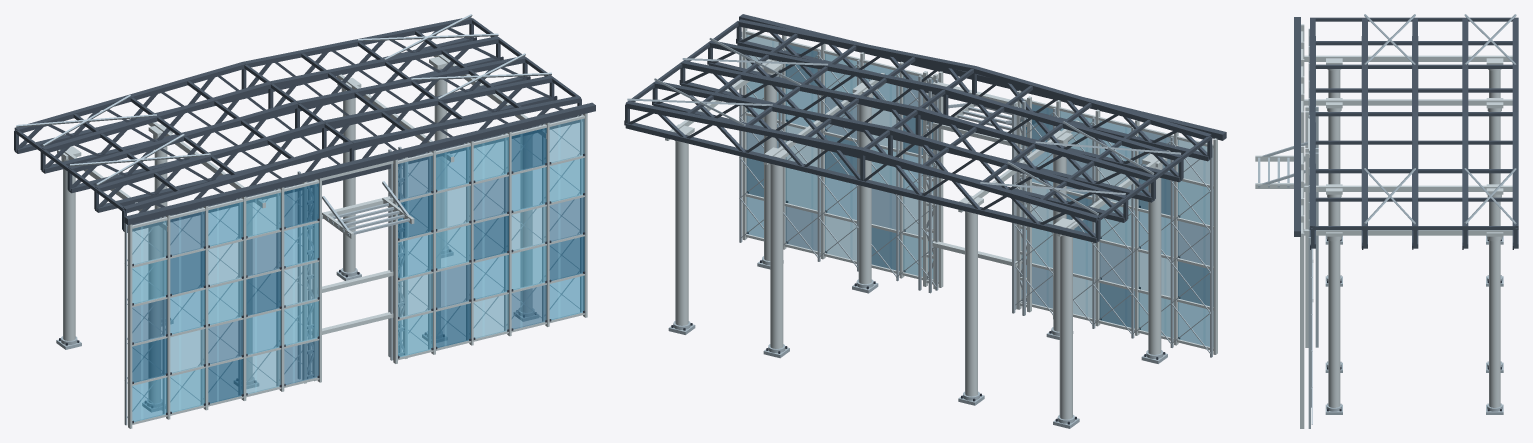
Rendered from tolmachevo.glb.
3 renders of one model, left to right at view 1: azimuth 30°, elevation 25°; view 2: azimuth 150°, elevation 25°; view 3: azimuth 270°, elevation 25°, orthographic. The views are drawn at different scales.
Parts seen in each view (by area): view 1: Остекление, Фермы покрытия, Каркас фасада, Круглые колонны, Входная группа; view 2: Фермы покрытия, Остекление, Каркас фасада, Круглые колонны, Входная группа; view 3: Фермы покрытия, Круглые колонны, Каркас фасада, Входная группа.
Boxes of the visible parts, x1,y1,x2,y2 form: Остекление: (132,119,584,421); Фермы покрытия: (14,14,595,232); Каркас фасада: (124,113,587,428); Круглые колонны: (56,56,538,412); Входная группа: (297,146,414,383); Фермы покрытия: (624,14,1226,242); Остекление: (746,34,1213,346); Каркас фасада: (739,27,1217,357); Круглые колонны: (668,60,1167,428); Входная группа: (918,71,1035,315); Фермы покрытия: (1294,14,1518,249); Круглые колонны: (1325,58,1503,414); Каркас фасада: (1300,24,1312,428); Входная группа: (1255,106,1318,347).
Size of the model in its own units: 22.2 by 10.35 by 11.54.
